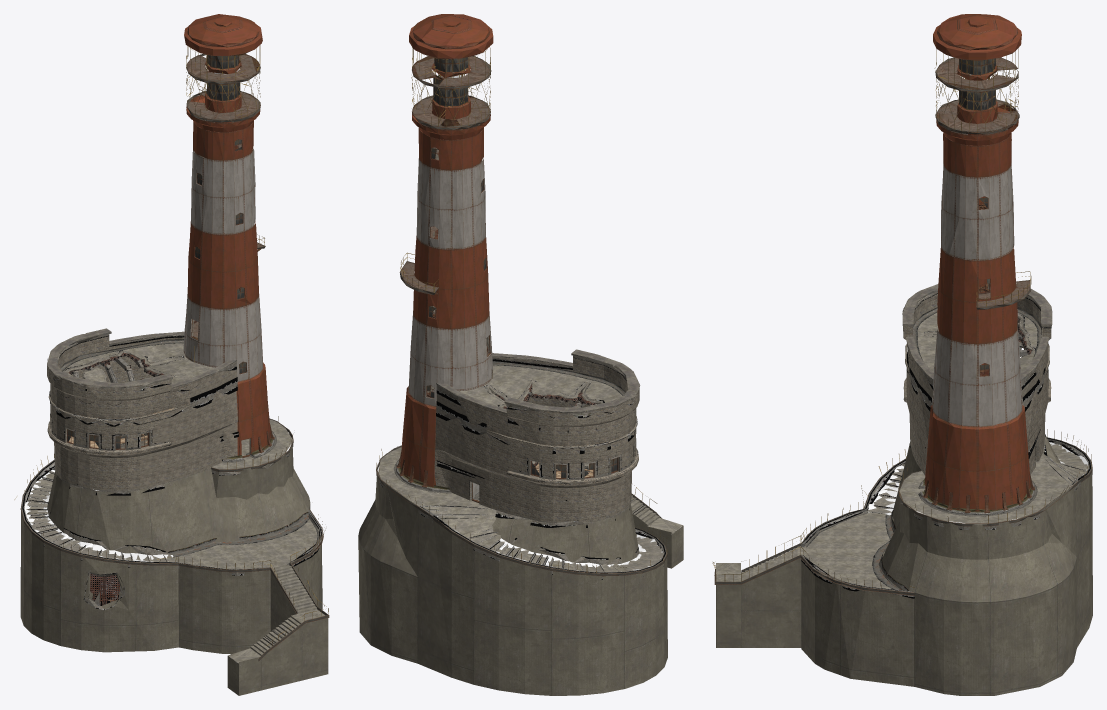
The model's file is lighthouse-mid.glb.
3 renders of one model, left to right at view 1: azimuth 30°, elevation 25°; view 2: azimuth 150°, elevation 25°; view 3: azimuth 270°, elevation 25°, orthographic. The views are drawn at different scales.
Visible parts, largest first — view 1: a_lighthouse_ext_LOD0, a_lighthouse_int_LOD0; view 2: a_lighthouse_ext_LOD0, a_lighthouse_int_LOD0; view 3: a_lighthouse_ext_LOD0, a_lighthouse_int_LOD0.
Part boxes in pixels (bbox=[...]): a_lighthouse_ext_LOD0: bbox=[14, 45, 329, 695]; a_lighthouse_int_LOD0: bbox=[21, 14, 325, 663]; a_lighthouse_ext_LOD0: bbox=[358, 46, 683, 695]; a_lighthouse_int_LOD0: bbox=[376, 14, 683, 579]; a_lighthouse_ext_LOD0: bbox=[712, 48, 1092, 695]; a_lighthouse_int_LOD0: bbox=[716, 14, 1092, 598].
Bounding box in the file's own units: 34.39 × 69.55 × 37.88.
19 materials, 18 textured.
